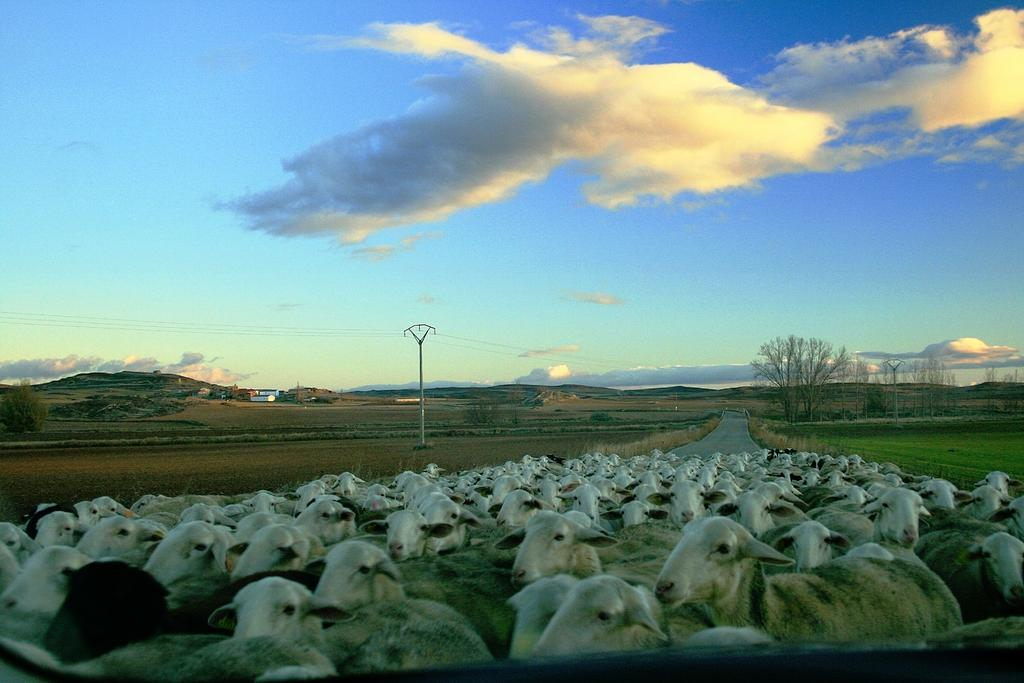Sheep: (654, 517, 960, 640), (51, 578, 342, 679), (498, 502, 637, 599), (521, 575, 670, 655), (304, 539, 408, 612), (143, 520, 236, 594), (226, 522, 325, 580), (764, 520, 853, 571), (379, 507, 460, 563), (77, 514, 166, 564), (859, 487, 932, 547), (713, 489, 793, 538), (291, 496, 359, 547), (658, 477, 711, 529), (494, 488, 554, 531), (959, 484, 1013, 520), (915, 479, 964, 511), (972, 471, 1021, 496)
